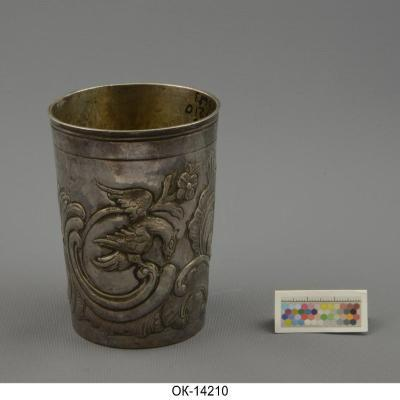dpi: (48, 83, 220, 352)
